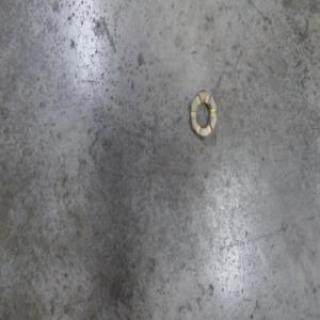Nuttrack_idkeyframe: (189, 86, 216, 141)
